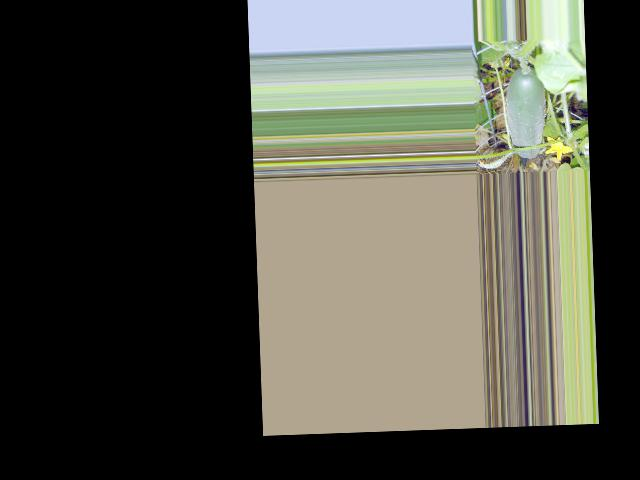cucumber: (503, 66, 547, 158)
